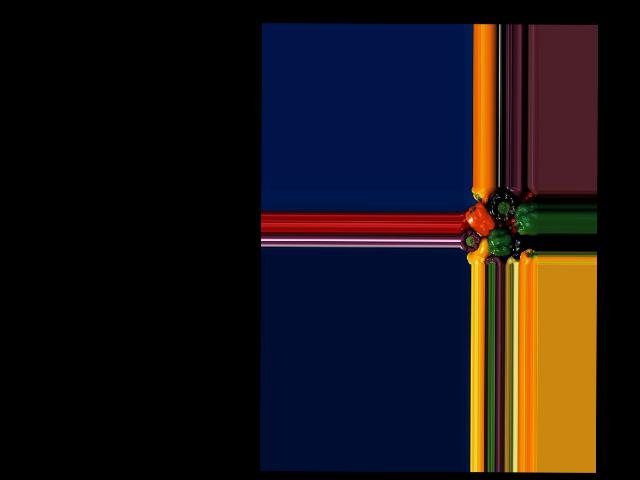bell_pepper: (517, 201, 539, 234)
